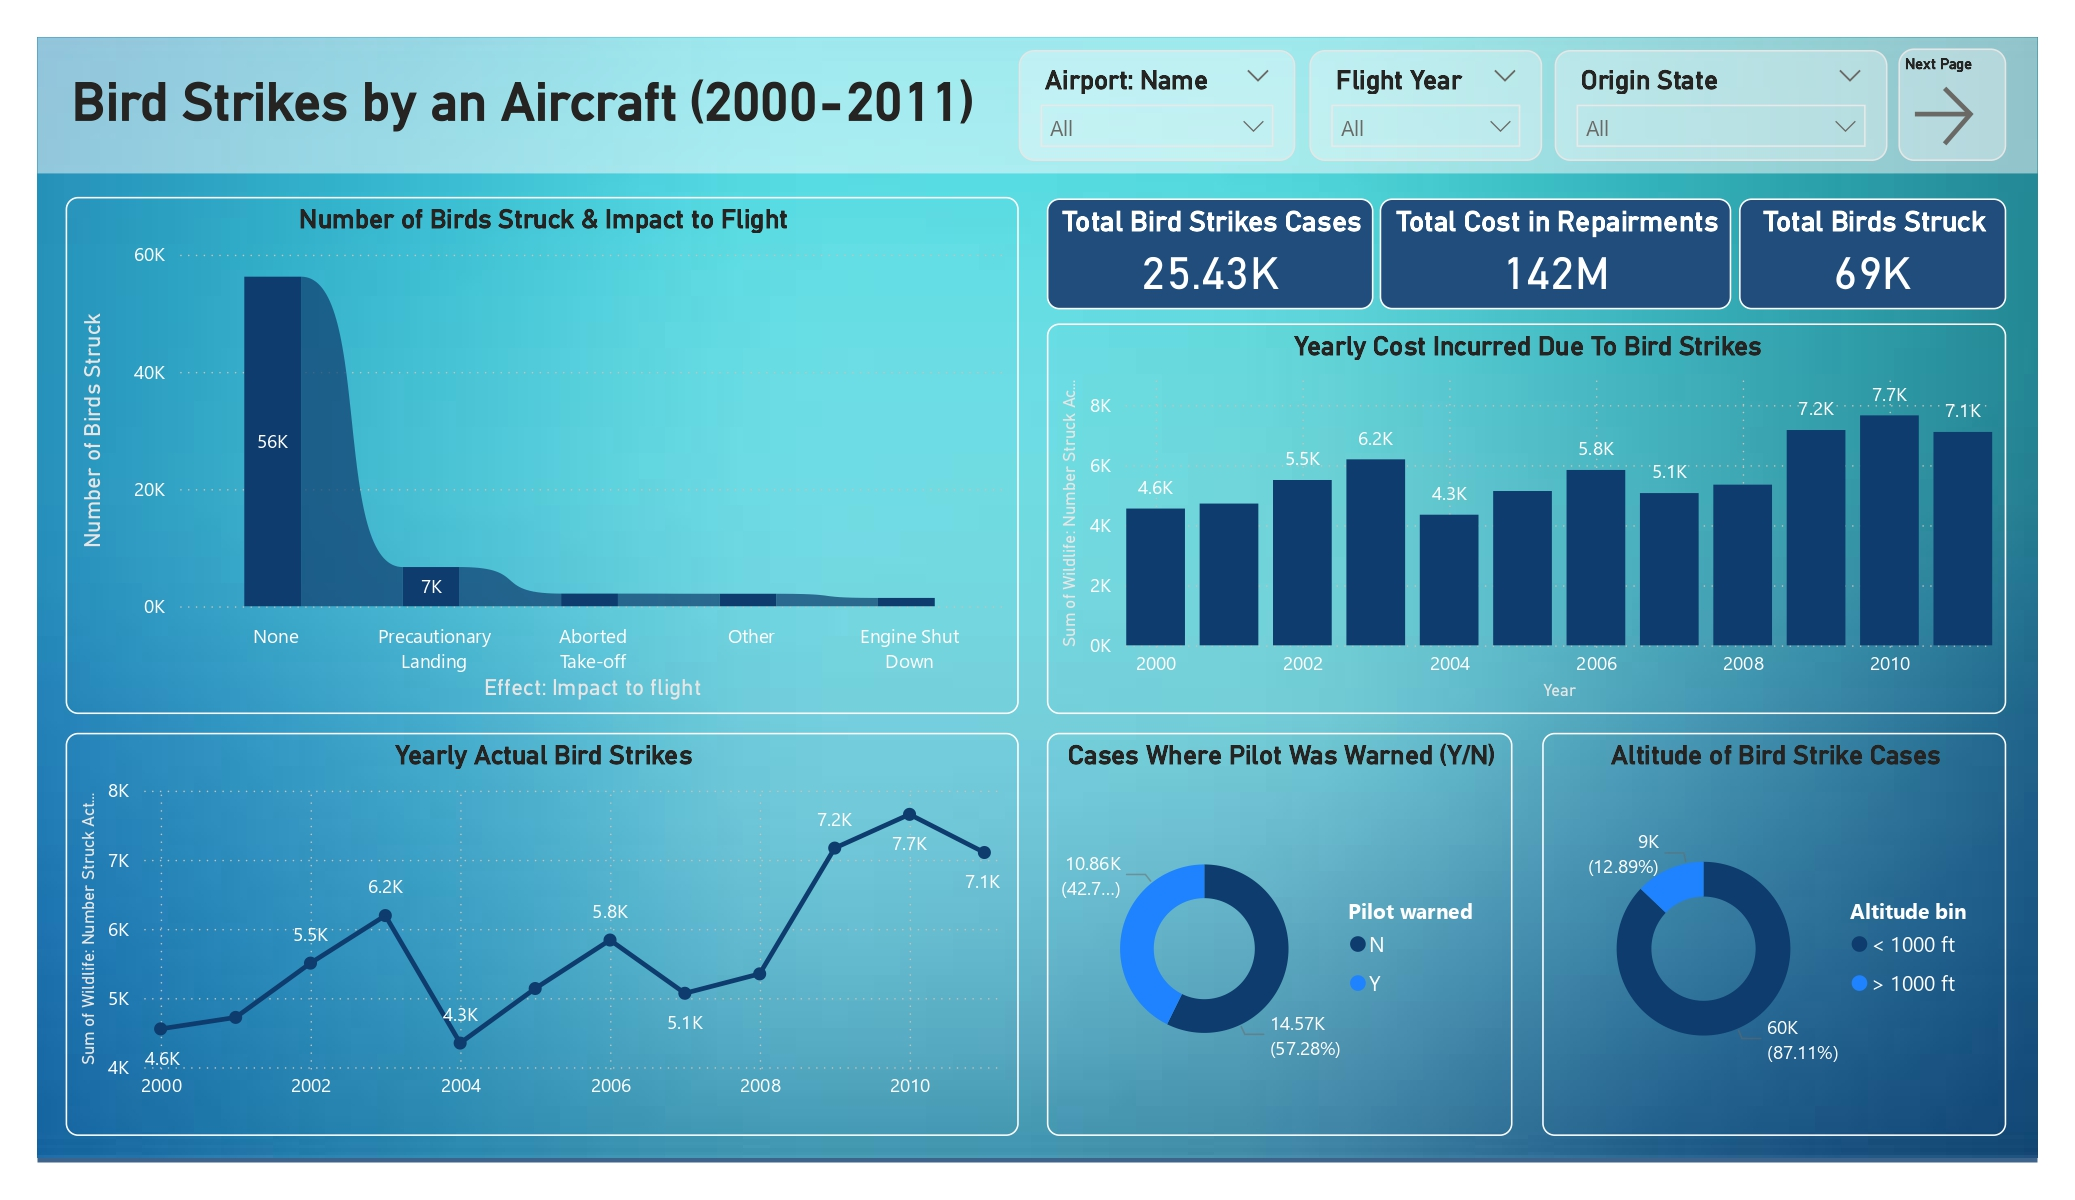

Layout of this report page (visuals, bound fields, positions):
{"tool":"powerbi","page":{"name":"Page 1","canvas":[1280,720],"ordinal":0},"visuals":[{"type":"textbox","box":[0,0,1280,87.1],"z":0},{"type":"slicer","fields":{"Values":["Bird Strikes data.FlightYear"]},"box":[813.8,7.5,148.8,71.2],"z":1000},{"type":"slicer","fields":{"Values":["Bird Strikes data.Origin State"]},"box":[971.2,7.5,212.5,71.2],"z":2000},{"type":"card","title":"Total Bird Strikes Cases","fields":{"Values":["CountNonNull(Bird Strikes data.Wildlife: Number Struck Actual)"]},"box":[646.2,102.5,208.8,71.2],"z":3000},{"type":"ribbonChart","title":"Number of Birds Struck & Impact to Flight","fields":{"Category":["Bird Strikes data.Effect: Impact to flight"],"Y":["Sum(Bird Strikes data.Wildlife: Number Struck Actual)"]},"box":[17.8,102.2,610,331.1],"z":5000},{"type":"donutChart","title":"Cases Where Pilot Was Warned (Y/N)","fields":{"Category":["Bird Strikes data.Pilot warned of birds or wildlife?"],"Y":["CountNonNull(Bird Strikes data.Wildlife: Number Struck Actual)"]},"box":[646.2,445,297.5,257.5],"z":6000},{"type":"donutChart","title":"Altitude of Bird Strike Cases","fields":{"Category":["Bird Strikes data.Altitude bin"],"Y":["Sum(Bird Strikes data.Wildlife: Number Struck Actual)"]},"box":[962.5,445,297.5,257.5],"z":7000},{"type":"lineChart","title":"Yearly Actual Bird Strikes","fields":{"Y":["Sum(Bird Strikes data.Wildlife: Number Struck Actual)"],"Category":["Bird Strikes data.FlightDate.Variation.Date Hierarchy.Year"]},"box":[17.5,445,610,257.5],"z":8000},{"type":"columnChart","title":"Yearly Cost Incurred Due To Bird Strikes","fields":{"Category":["Bird Strikes data.FlightDate.Variation.Date Hierarchy.Year"],"Y":["Sum(Bird Strikes data.Wildlife: Number Struck Actual)"]},"box":[645.7,182.9,614.3,250],"z":9000},{"type":"slicer","fields":{"Values":["Bird Strikes data.Airport: Name"]},"box":[627.5,7.5,177.5,71.2],"z":10000},{"type":"actionButton","title":"Next Page","box":[1191.4,7.1,68.6,71.4],"z":11000},{"type":"card","title":"Total Cost in Repairments","fields":{"Values":["Sum(Bird Strikes data.Cost: Total $)"]},"box":[858.8,102.5,225,71.2],"z":11001},{"type":"card","title":"Total Birds Struck","fields":{"Values":["Sum(Bird Strikes data.Wildlife: Number Struck Actual)"]},"box":[1088.8,102.5,171.2,71.2],"z":11002}]}

Visuals, with their boxes in screenshot pixels (x1, y1, x2, y2):
textbox: detection(38, 38, 2038, 174)
slicer - Bird Strikes data.FlightYear: detection(1309, 49, 1542, 160)
slicer - Bird Strikes data.Origin State: detection(1555, 49, 1887, 160)
"Total Bird Strikes Cases" card: detection(1047, 198, 1373, 309)
"Number of Birds Struck & Impact to Flight" ribbonChart: detection(65, 197, 1018, 715)
"Cases Where Pilot Was Warned (Y/N)" donutChart: detection(1047, 733, 1512, 1135)
"Altitude of Bird Strike Cases" donutChart: detection(1541, 733, 2006, 1135)
"Yearly Actual Bird Strikes" lineChart: detection(65, 733, 1018, 1135)
"Yearly Cost Incurred Due To Bird Strikes" columnChart: detection(1046, 323, 2006, 714)
slicer - Bird Strikes data.Airport: Name: detection(1018, 49, 1295, 160)
"Next Page" actionButton: detection(1899, 49, 2006, 160)
"Total Cost in Repairments" card: detection(1379, 198, 1731, 309)
"Total Birds Struck" card: detection(1739, 198, 2006, 309)
